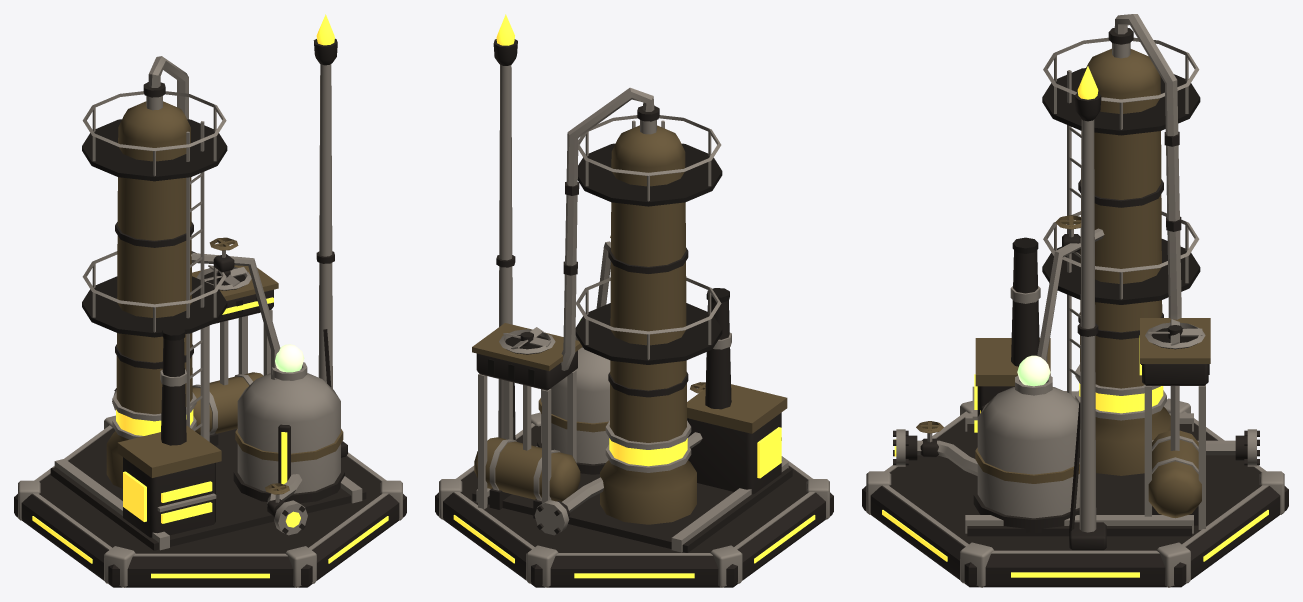
File: fac_refinery.glb
The picture shows the model from 3 angles, left to right: view 1: azimuth 30°, elevation 25°; view 2: azimuth 150°, elevation 25°; view 3: azimuth 270°, elevation 25°; orthographic projection. The views are drawn at different scales.
Parts seen in each view (by area): view 1: body, base, lamp; view 2: body, base; view 3: body, base, lamp.
Boxes of the visible parts, x1,y1,x2,y2 form: body: (50, 14, 366, 550); base: (14, 415, 406, 587); lamp: (272, 344, 307, 380); body: (472, 14, 792, 552); base: (435, 412, 833, 587); body: (893, 14, 1259, 550); base: (862, 398, 1288, 587); lamp: (1015, 355, 1052, 395).
Size of the model in its own units: 1.8 by 2.7 by 2.05.
